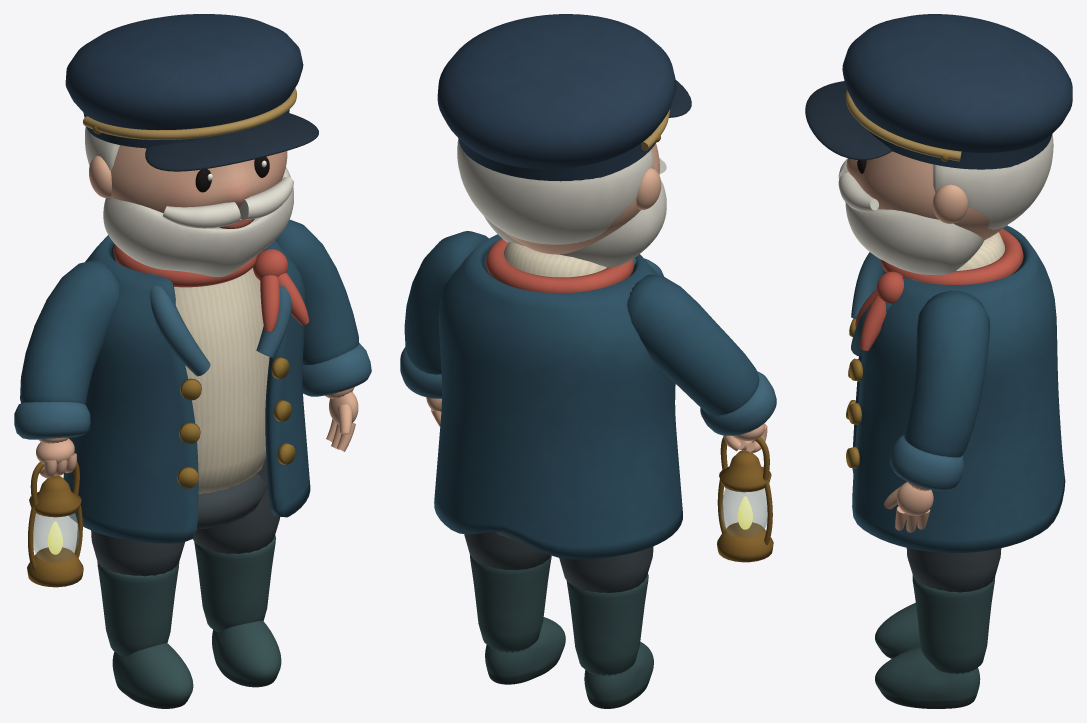
File: npc_lighthouse.glb
3 renders of one model, left to right at view 1: azimuth 30°, elevation 25°; view 2: azimuth 150°, elevation 25°; view 3: azimuth 270°, elevation 25°, orthographic.
Visible parts, largest first — view 1: WoolCoat_Body, CaptainCap_Crown, Sweater_Turtleneck, Sleeve_R, Beard_FullSilver, Head_Sculpt, Sleeve_L, SeaBootShaft_R, SeaBootShaft_L, CaptainCap_Visor, SeaBoot_R, SeaBoot_L (+21 smaller); view 2: WoolCoat_Body, CaptainCap_Crown, Sleeve_R, Hair_SilverBack, SeaBootShaft_R, SeaBootShaft_L, Sleeve_L, Beard_FullSilver, Scarf_NeckBand, Trouser_R, SeaBoot_L, SeaBoot_R (+10 smaller); view 3: WoolCoat_Body, CaptainCap_Crown, Sleeve_L, Beard_FullSilver, SeaBootShaft_L, Hair_SilverBack, Head_Sculpt, SeaBoot_L, CaptainCap_Visor, Trouser_L, SleeveCuff_L, Scarf_NeckBand (+11 smaller).
Part boxes in pixels (x1,y1,x2,y2): WoolCoat_Body: (63,235,310,543); CaptainCap_Crown: (65,14,303,130); Sweater_Turtleneck: (174,268,269,494); Sleeve_R: (20,260,119,404); Beard_FullSilver: (103,167,293,277); Head_Sculpt: (110,145,287,212); Sleeve_L: (276,219,358,365); SeaBootShaft_R: (97,562,179,656); SeaBootShaft_L: (194,535,275,632); CaptainCap_Visor: (145,113,318,171); SeaBoot_R: (112,643,193,708); SeaBoot_L: (212,620,281,687); WoolCoat_Body: (434,234,682,559); CaptainCap_Crown: (437,14,676,169); Sleeve_R: (627,274,759,415); Hair_SilverBack: (457,139,653,244); SeaBootShaft_R: (566,574,648,675); SeaBootShaft_L: (470,555,551,652); Sleeve_L: (404,231,488,374); Beard_FullSilver: (484,180,666,267); Scarf_NeckBand: (486,238,634,293); Trouser_R: (559,546,653,592); SeaBoot_L: (485,617,565,684); SeaBoot_R: (584,641,653,708); WoolCoat_Body: (852,225,1065,552); CaptainCap_Crown: (842,14,1072,152); Sleeve_L: (904,290,989,457); Beard_FullSilver: (845,202,983,274); SeaBootShaft_L: (912,575,995,673); Hair_SilverBack: (933,134,1053,230); Head_Sculpt: (846,151,1006,240); SeaBoot_L: (875,646,980,708); CaptainCap_Visor: (805,81,892,160); Trouser_L: (906,548,1001,592); SleeveCuff_L: (890,435,964,491); Scarf_NeckBand: (880,229,1023,284).
Bounding box in the file's own units: 0.7682 × 1.33 × 0.5043.
7 materials, 1 textured.
